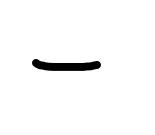minus: (32, 58, 101, 71)
